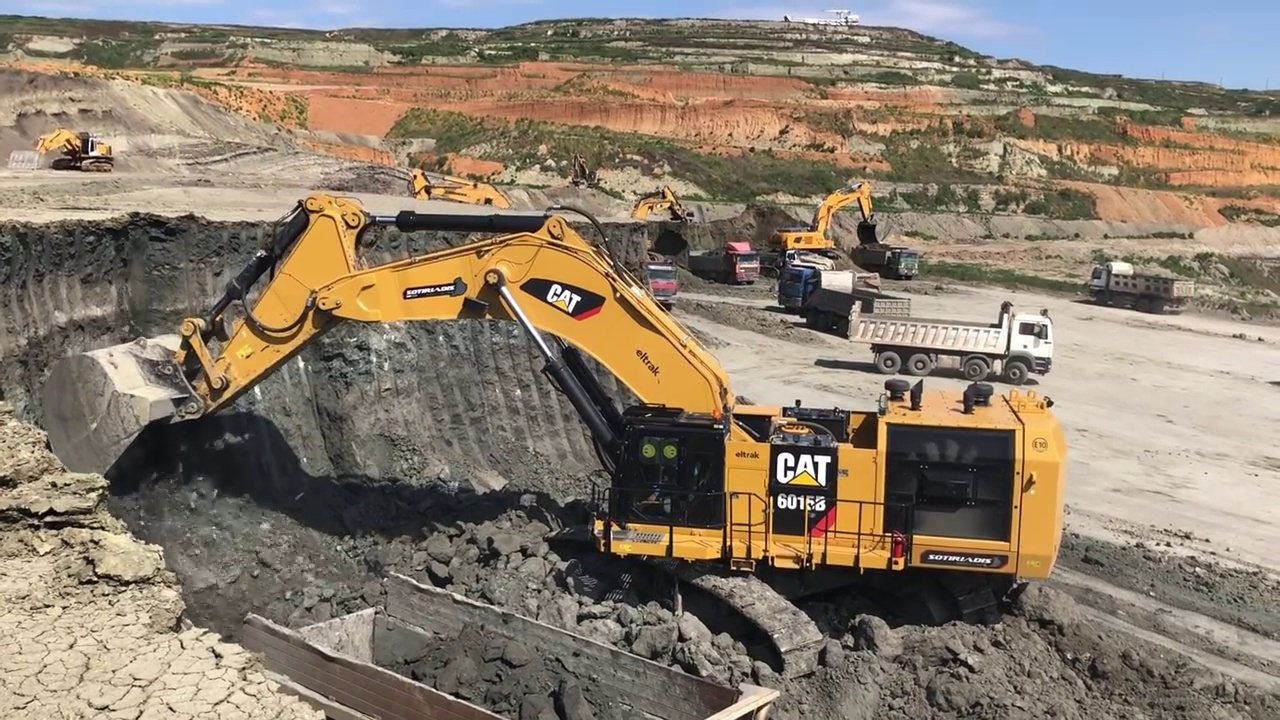dumper: (236, 570, 782, 720)
excavator: (44, 188, 1083, 619), (391, 164, 522, 251), (772, 183, 890, 255), (627, 183, 709, 243), (8, 127, 114, 171)
truck: (848, 298, 1055, 386), (777, 254, 913, 335), (1089, 261, 1194, 313), (617, 261, 682, 319), (688, 239, 765, 287), (856, 238, 924, 275)
